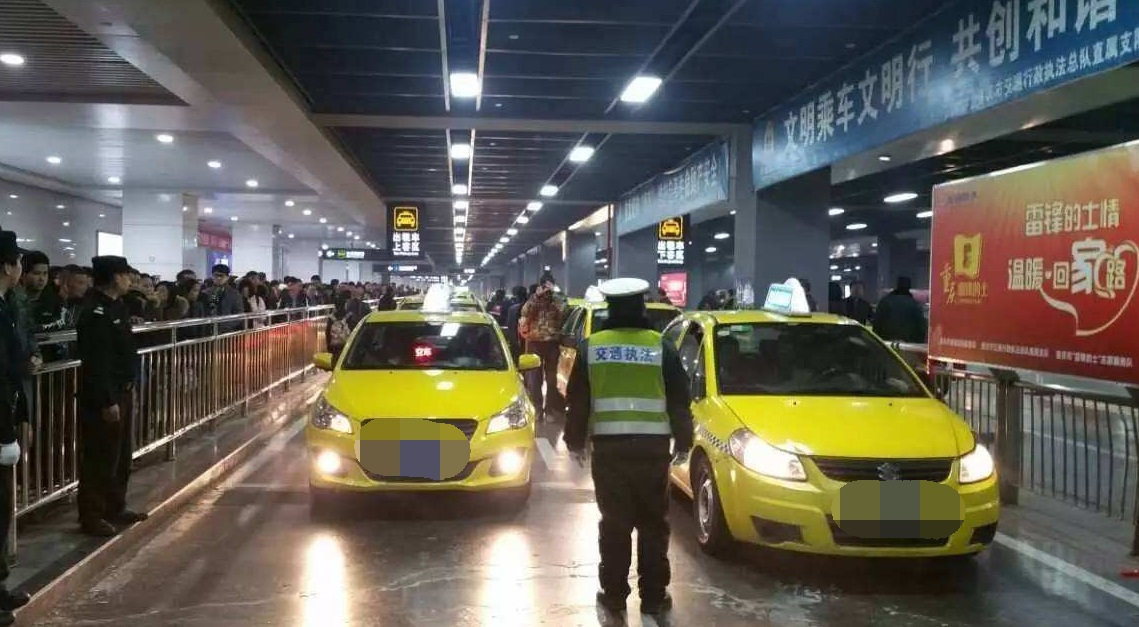taxi: (303, 283, 548, 508)
